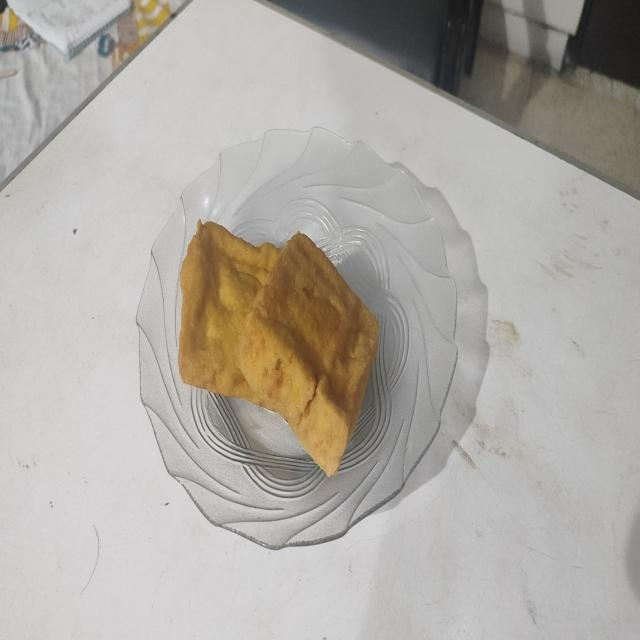tahu_goreng: (238, 232, 379, 476), (178, 220, 284, 407)
